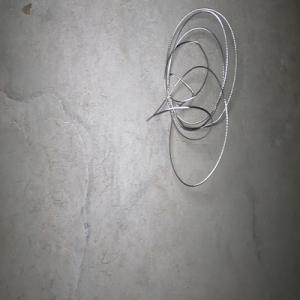Wire: (145, 7, 237, 186)
